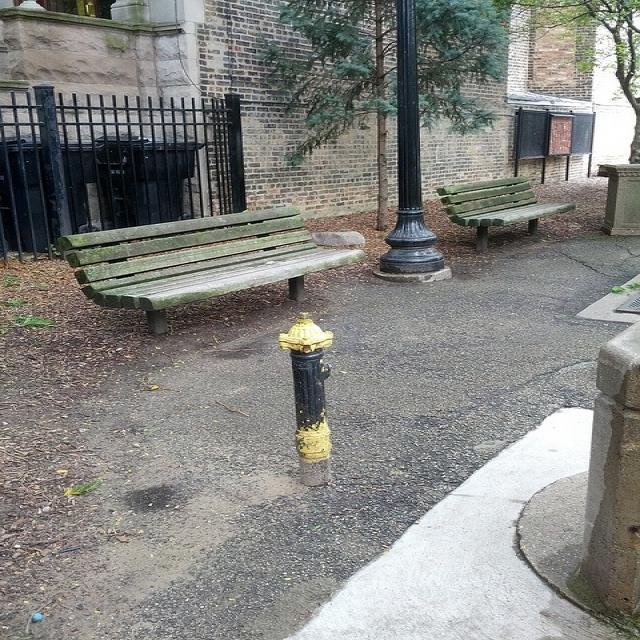fire_hydrant: (273, 311, 331, 485)
pole: (372, 4, 457, 277)
